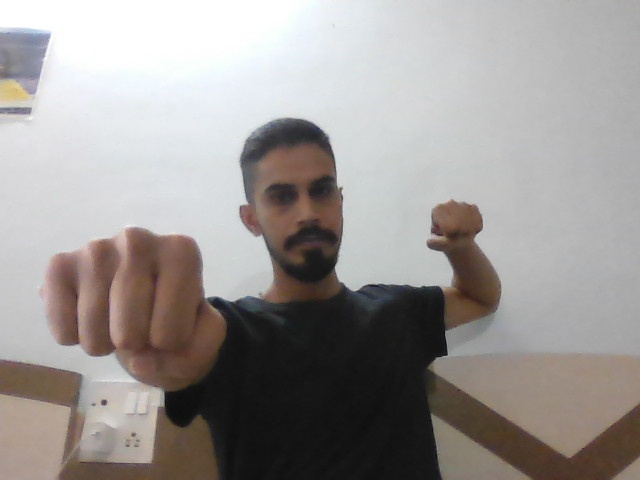Yes: (33, 224, 229, 370), (426, 190, 486, 253)
